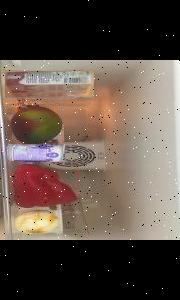Mango: (10, 104, 62, 144)
Nata: (4, 70, 93, 98)
Pimiento: (15, 163, 77, 209)
Yogur: (7, 144, 64, 162)
